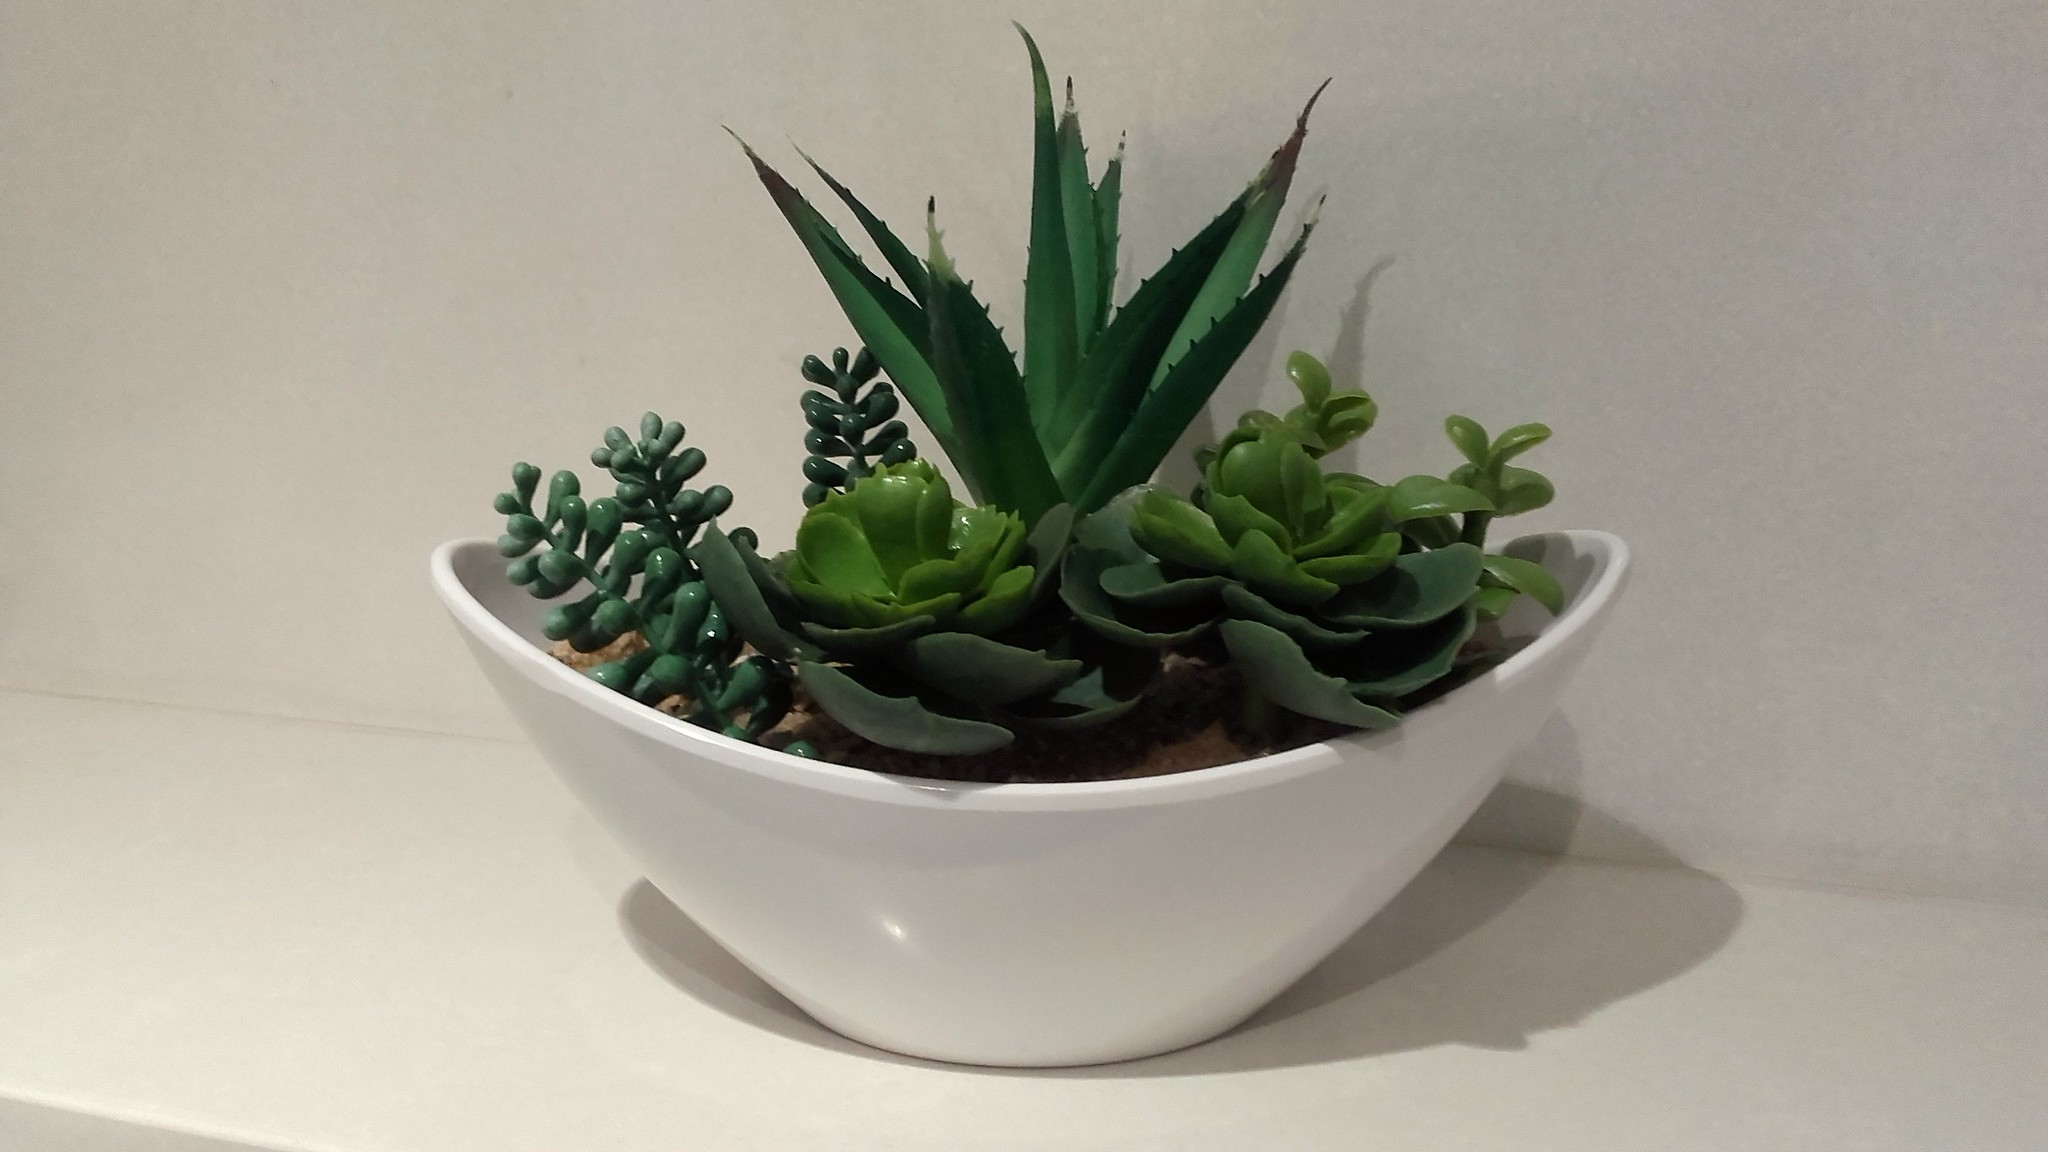potted plant: (429, 158, 1649, 1084)
